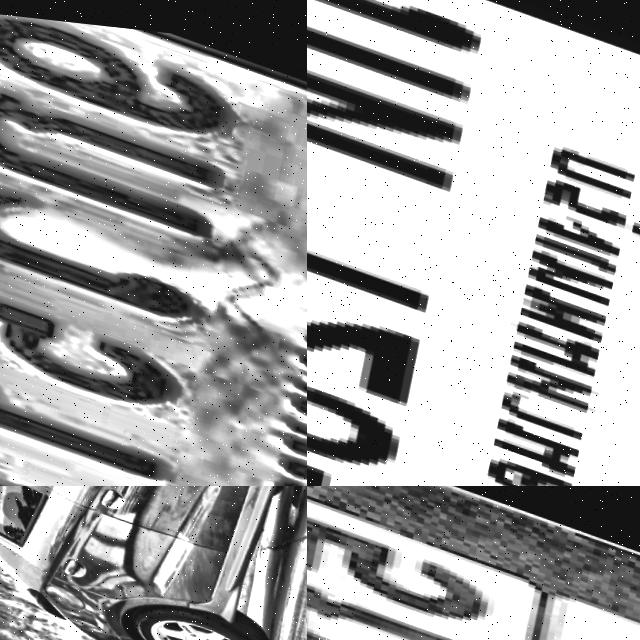license-plate: (307, 0, 640, 486), (0, 0, 307, 486), (307, 486, 640, 640)
